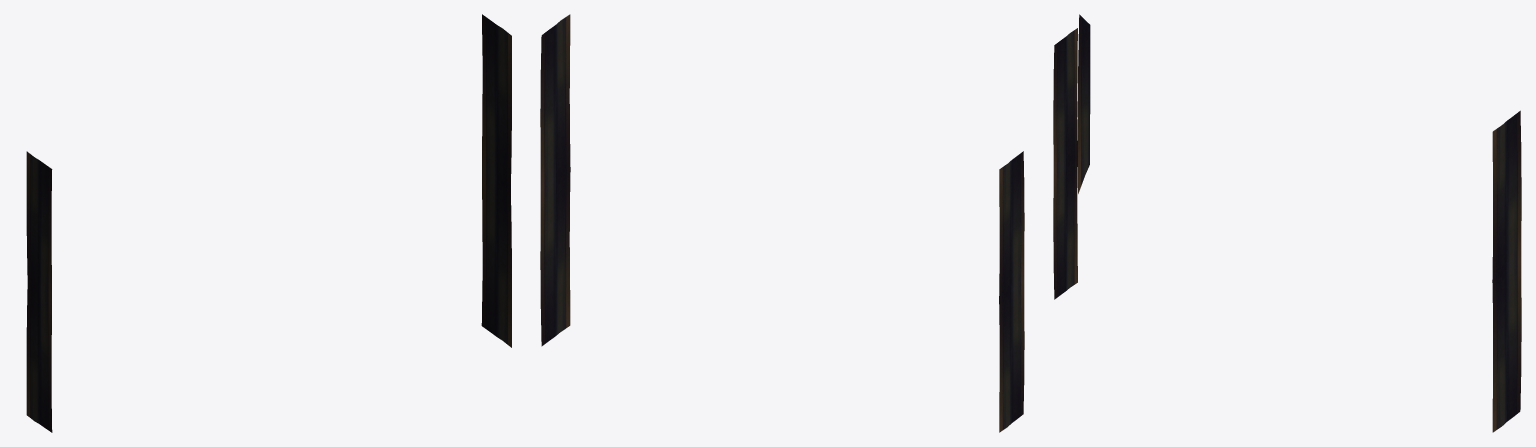
Rendered from LivingRoom_GEO_GRP_LivingRoom_Wall_Piece__01.obj.
3 views of the same model, side by side, from view 1: azimuth 30°, elevation 25°; view 2: azimuth 150°, elevation 25°; view 3: azimuth 330°, elevation 25° (orthographic). The views are drawn at different scales.
Parts seen in each view (by area): view 1: LivingRoom_GEO_GRP_LivingRoom_Wall_Piece__01; view 2: LivingRoom_GEO_GRP_LivingRoom_Wall_Piece__01; view 3: LivingRoom_GEO_GRP_LivingRoom_Wall_Piece__01.
Part boxes in pixels (x1,y1,x2,y2): LivingRoom_GEO_GRP_LivingRoom_Wall_Piece__01: (26, 14, 511, 432); LivingRoom_GEO_GRP_LivingRoom_Wall_Piece__01: (540, 14, 1024, 432); LivingRoom_GEO_GRP_LivingRoom_Wall_Piece__01: (1053, 14, 1521, 432).
Size of the model in its own units: 6.42 by 4.19 by 0.9756.
1 material, 1 textured.
